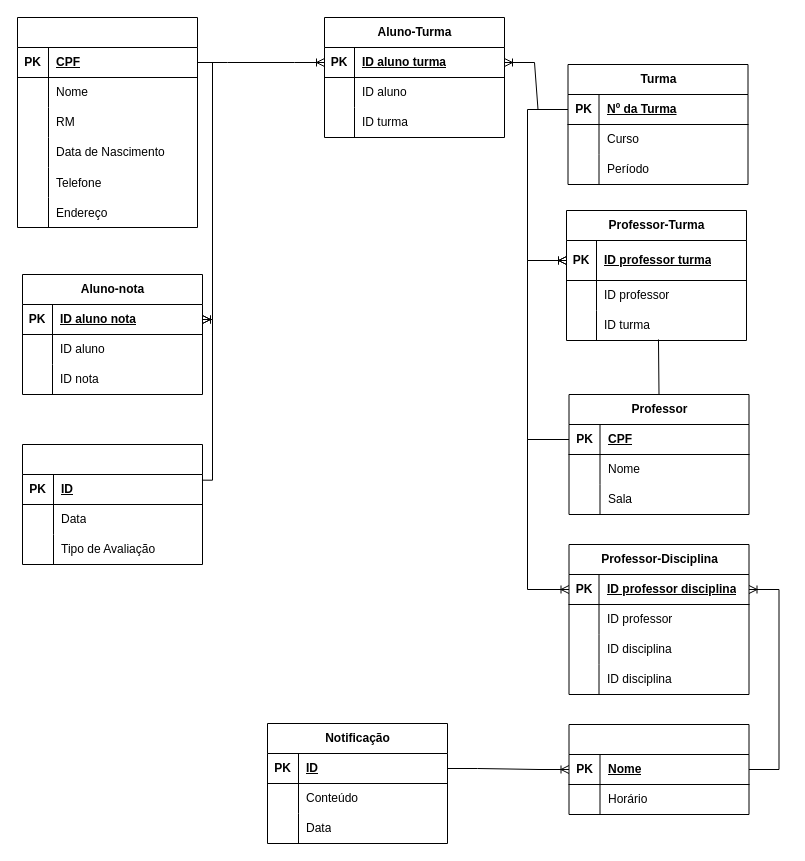
The diagram is 805 pixels wide and 861 high, and some of its shapes have lost their labels. Here are the shapes that lost their labels. From the top down, the box of each, then its label:
(16, 16, 198, 228): Aluno
(22, 444, 202, 564): Nota
(568, 724, 749, 814): Disciplina
